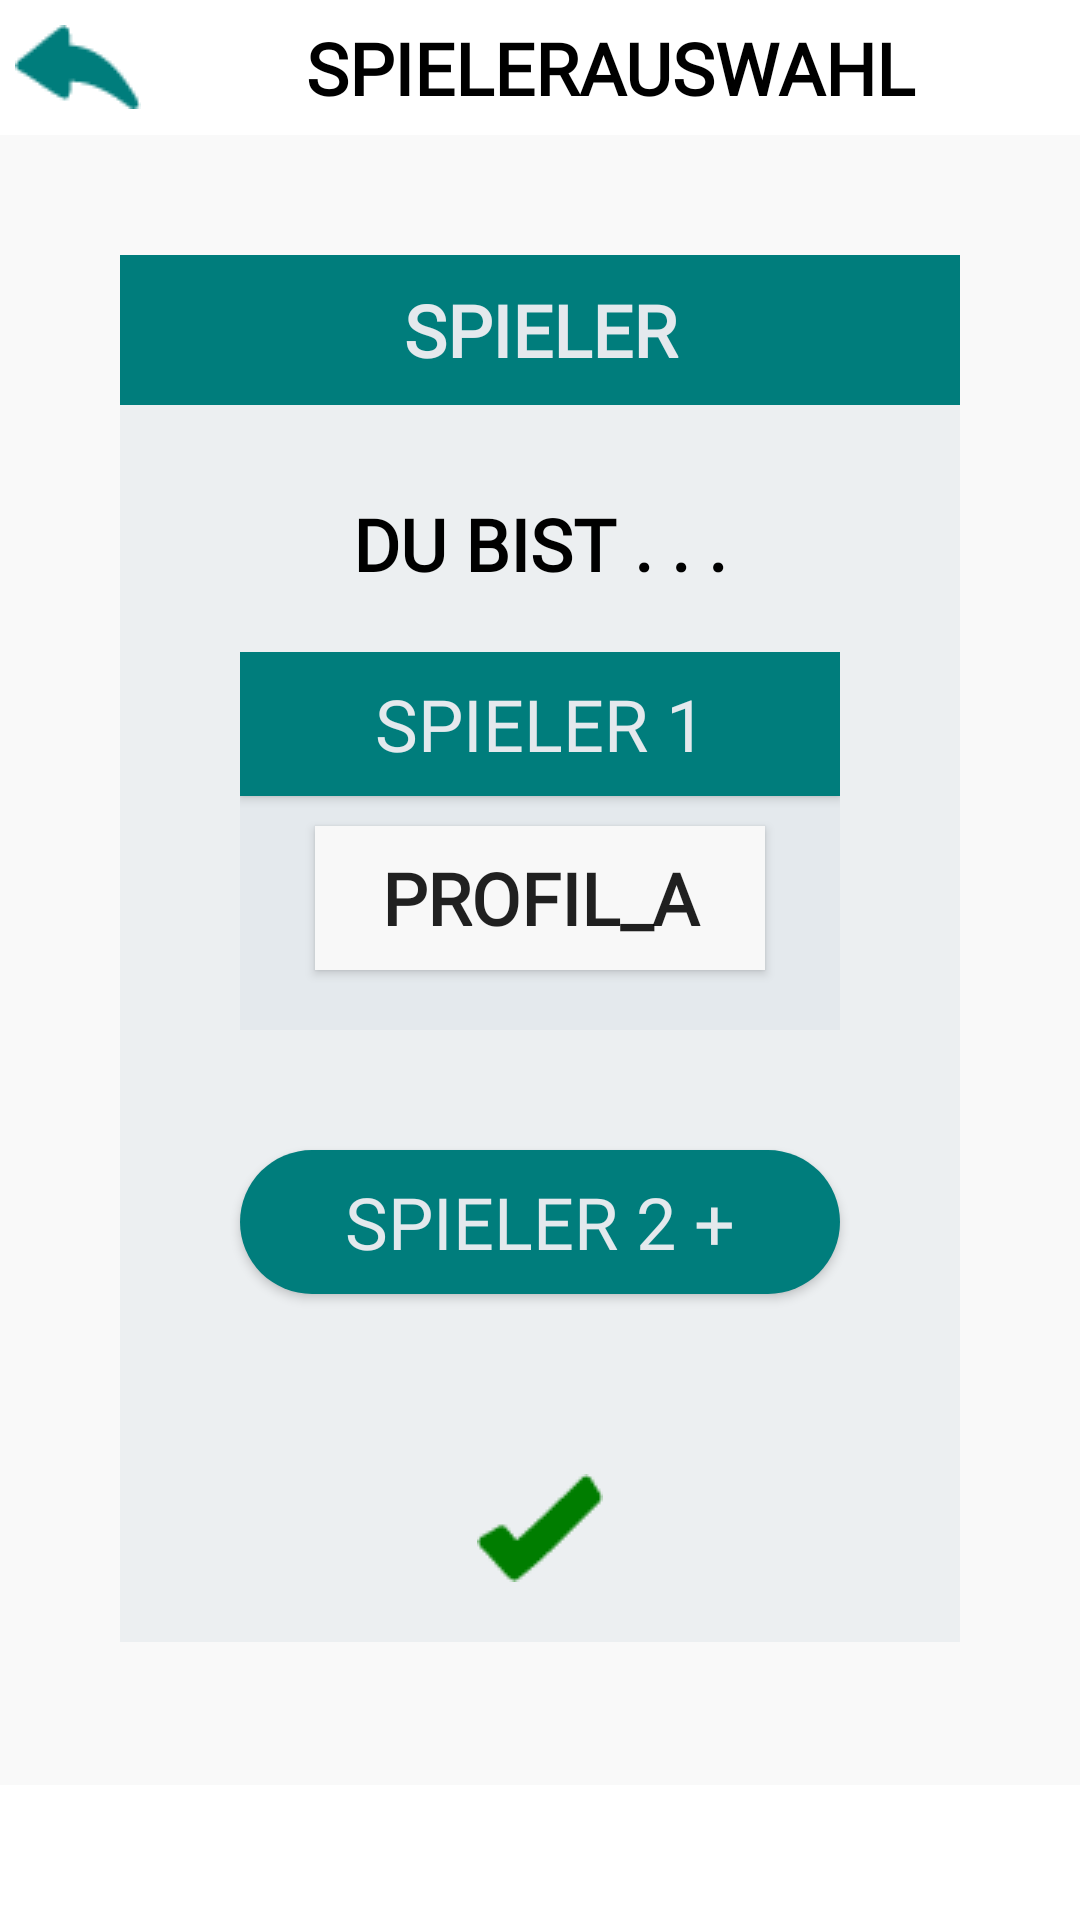

Where icons sit on this 1080px x 1920px app screen, as region(x1, y1, x2, y2):
back: region(15, 25, 141, 109)
correct: region(477, 1474, 603, 1582)
